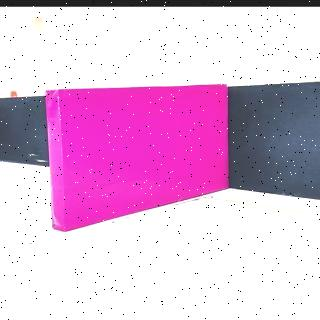xparking: (46, 90, 225, 186)
